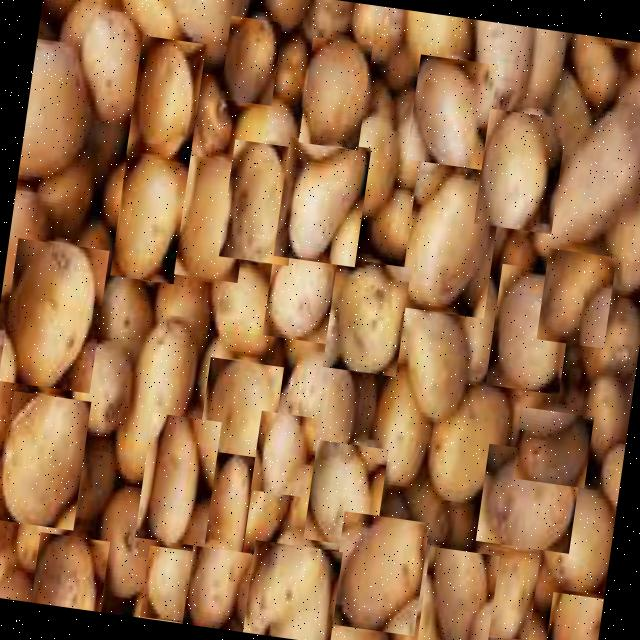Damaged potato: (85, 484, 168, 598), (512, 406, 593, 487), (30, 531, 109, 612)
Potato: (522, 94, 640, 274), (105, 314, 204, 494), (398, 156, 504, 318), (0, 237, 108, 393), (421, 372, 517, 508), (328, 510, 430, 635), (272, 136, 370, 266), (0, 390, 90, 530), (18, 35, 100, 186), (475, 442, 582, 553), (473, 108, 567, 234), (63, 1, 154, 131), (485, 263, 575, 394), (134, 411, 221, 546), (392, 298, 478, 425), (218, 138, 304, 265), (405, 53, 498, 169), (322, 257, 411, 376), (110, 154, 190, 284), (281, 341, 372, 454), (173, 154, 253, 282), (126, 34, 206, 162), (241, 539, 342, 640), (362, 368, 444, 489), (535, 484, 619, 598), (302, 438, 388, 548), (196, 356, 284, 461), (298, 36, 372, 150), (64, 331, 142, 436), (536, 247, 616, 348), (414, 545, 499, 640), (262, 237, 338, 343), (204, 262, 282, 358), (220, 472, 298, 562), (182, 544, 260, 634), (336, 118, 409, 210), (470, 545, 540, 640), (192, 449, 255, 552), (250, 409, 316, 496), (219, 15, 282, 105), (140, 544, 210, 624), (541, 591, 604, 640)
